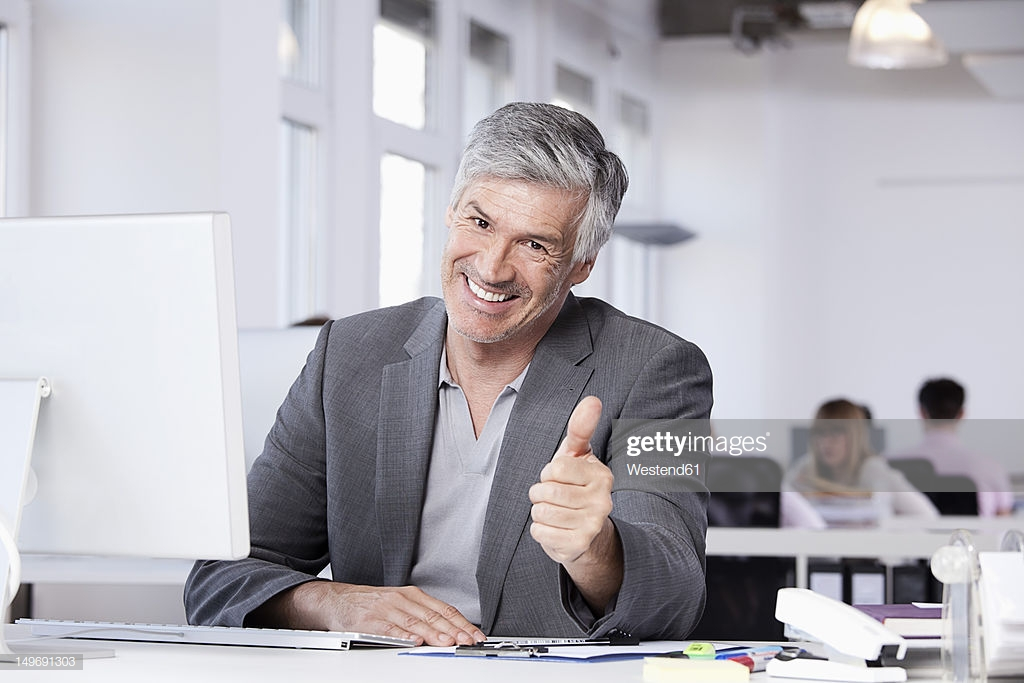thumbsup: (528, 395, 615, 552)
